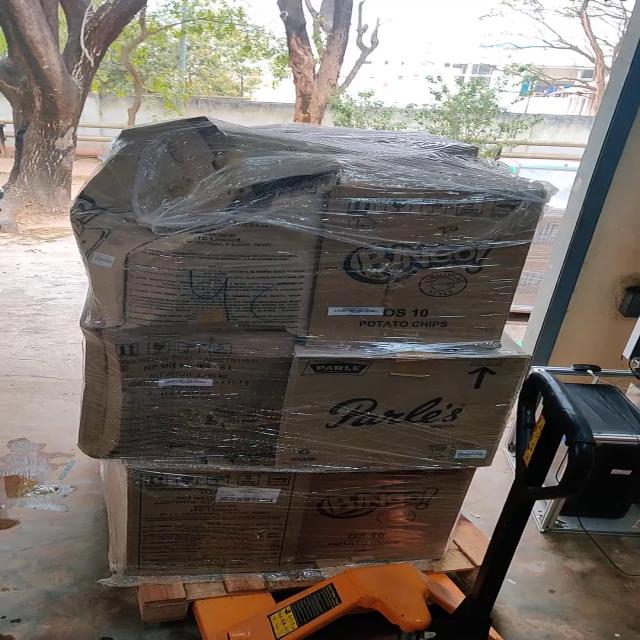squeeze: (110, 117, 338, 250)
